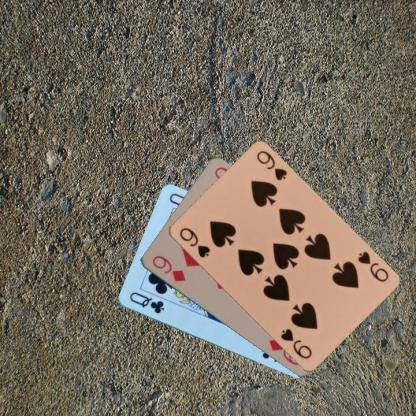9d: (149, 253, 187, 283)
9s: (355, 248, 390, 284), (176, 225, 212, 259)
Qc: (127, 290, 165, 316)
